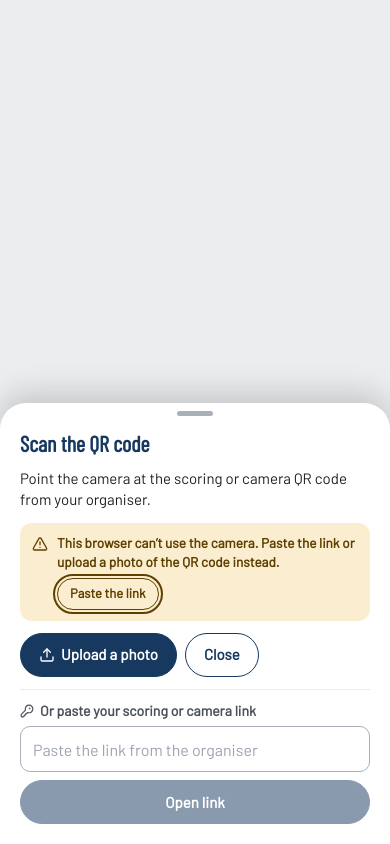
Test case: permission QR verification › rejects unsupported or malformed permission #t=
Step 1. Type "#t=" into the field labelled "scoring or camera link" → (195, 749), box [20,726,370,772]
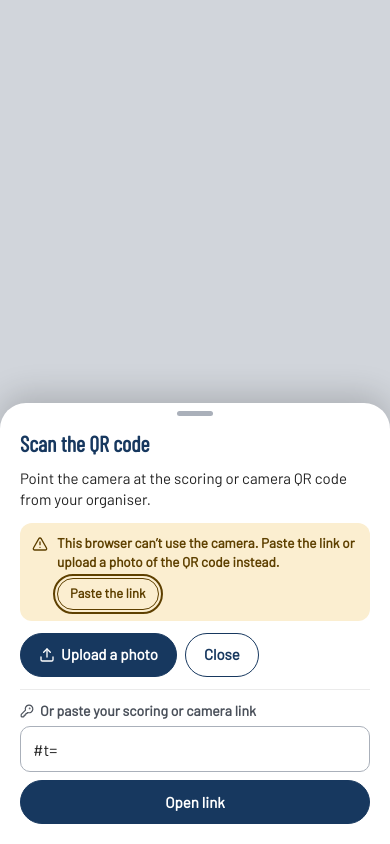
Step 2. Click the button "Open link" → (195, 802), box [20,780,370,824]
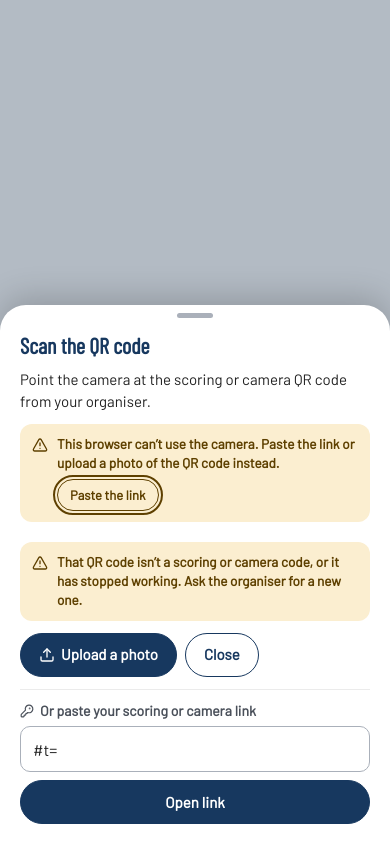
expect the 2nd message shows "That QR code isn’t a scoring or camera code": met, box [57,553,341,608]
